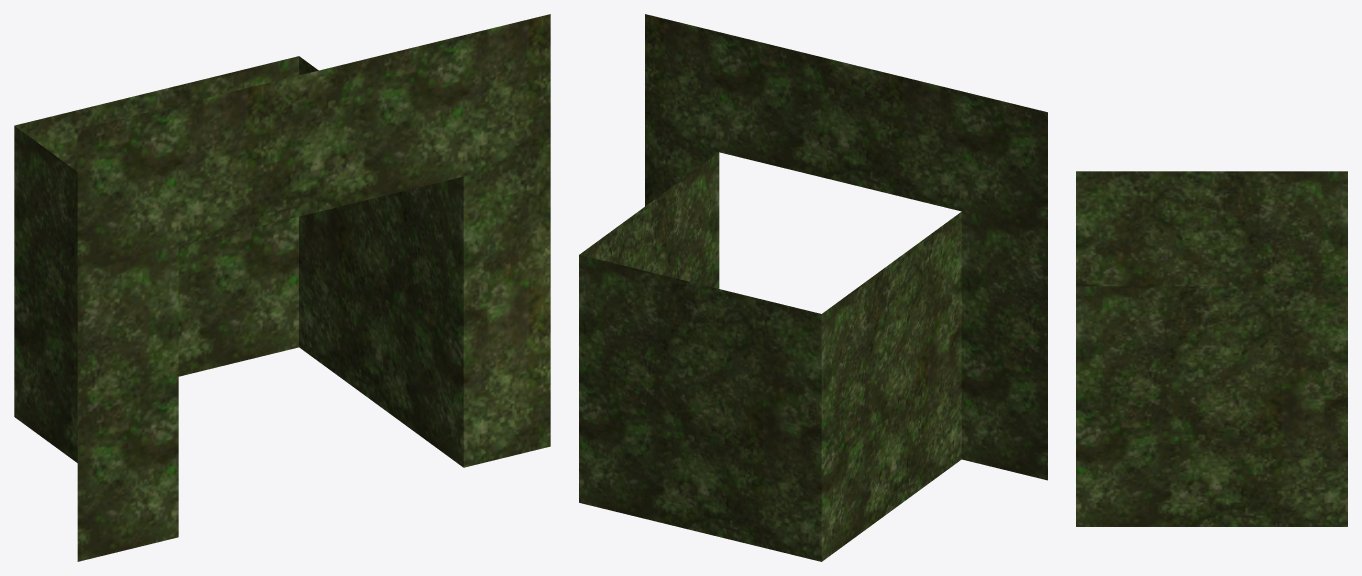
File: OVERHILL_A_01_OBJECT70.fbx
3 views of the same model, side by side, from view 1: azimuth 30°, elevation 25°; view 2: azimuth 150°, elevation 25°; view 3: azimuth 270°, elevation 25° (orthographic). The views are drawn at different scales.
Visible parts, largest first — view 1: OVERHILL_A_01_OBJECT70; view 2: OVERHILL_A_01_OBJECT70; view 3: OVERHILL_A_01_OBJECT70.
Part boxes in pixels (box(x1,y1,x2,y2)): OVERHILL_A_01_OBJECT70: box(14, 14, 550, 561); OVERHILL_A_01_OBJECT70: box(579, 14, 1047, 561); OVERHILL_A_01_OBJECT70: box(1076, 171, 1347, 526).
Bounding box in the file's own units: 54178 × 47322 × 32623.
Materials: 1 (1 with a texture image).
